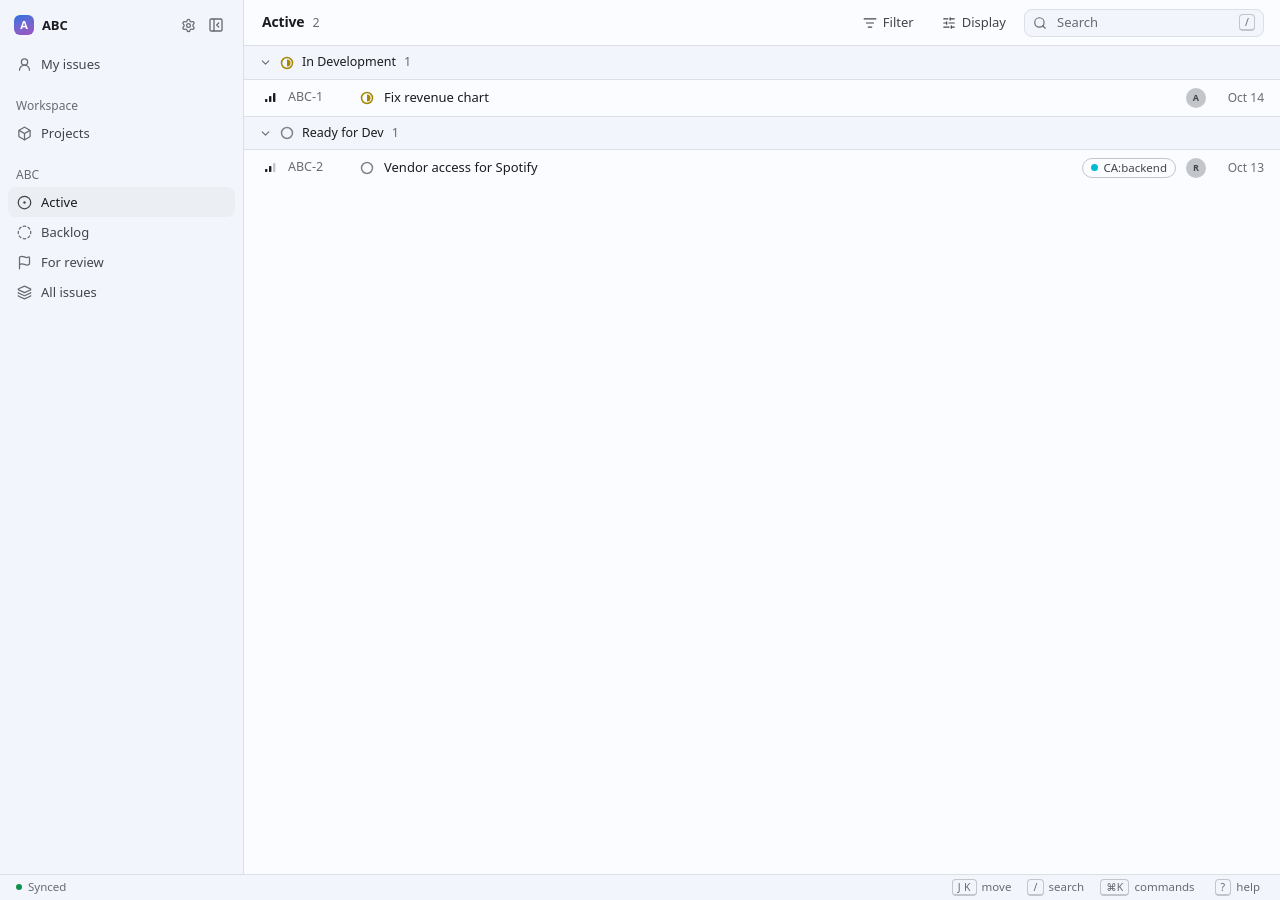
more issue actions › d sets a due date; the dialog submits with Enter
Expected: the list named "Issues" is shown, left=244, top=46, right=1279, bottom=178
Expected: the text "Fix revenue chart" is shown, left=384, top=88, right=489, bottom=106
Type keys "j{Shift>}d{/Shift}"
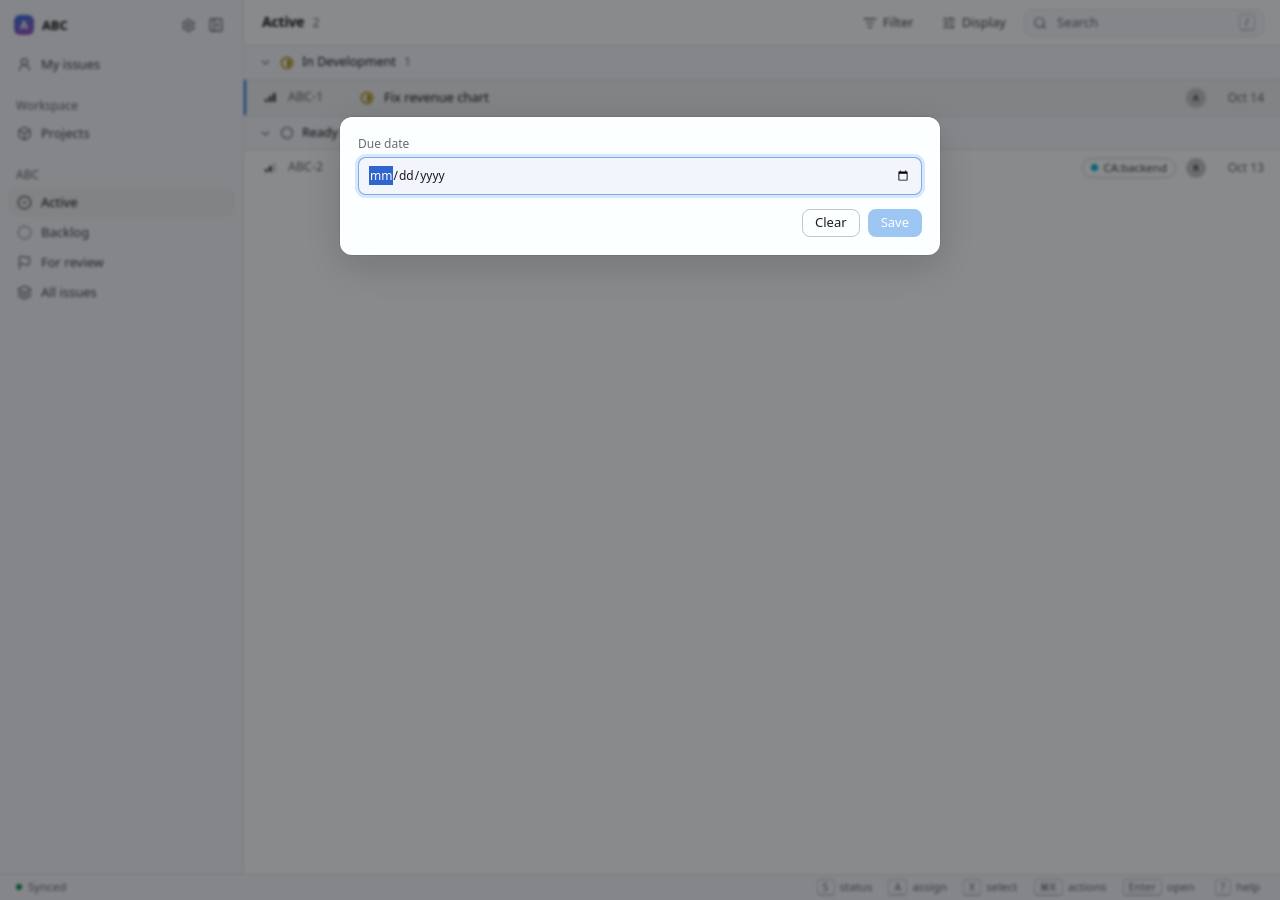
Type "2026-11-01" into the date field labelled "Due date" at (640, 176), box left=358, top=157, right=922, bottom=195
Then press Enter
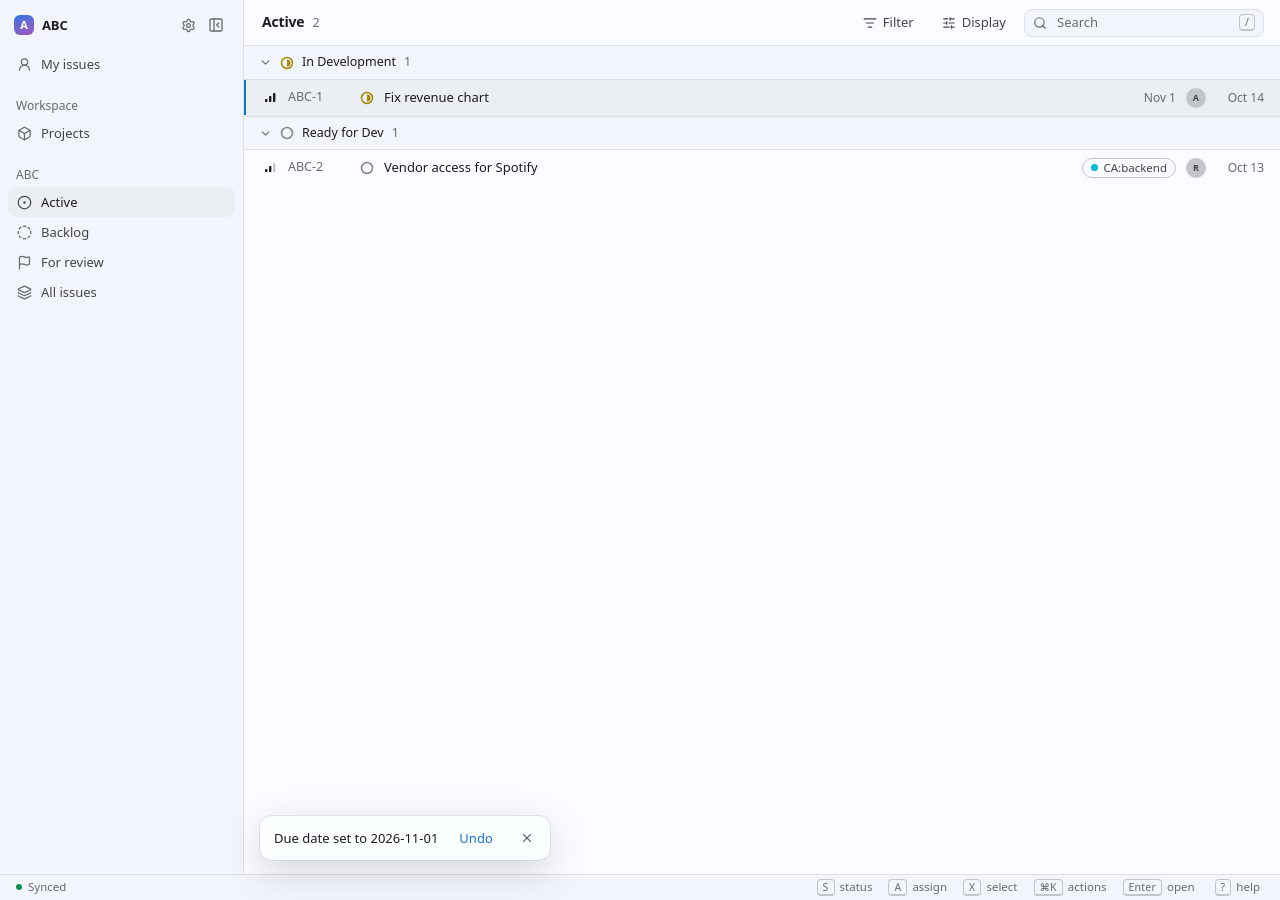
Result: the date field labelled "Set due date" is gone
